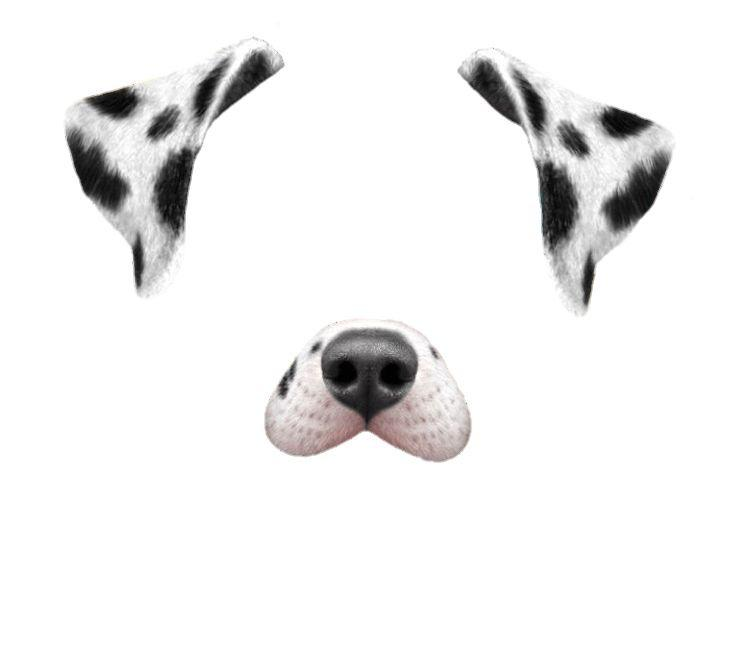non-dog: (64, 38, 676, 463)
